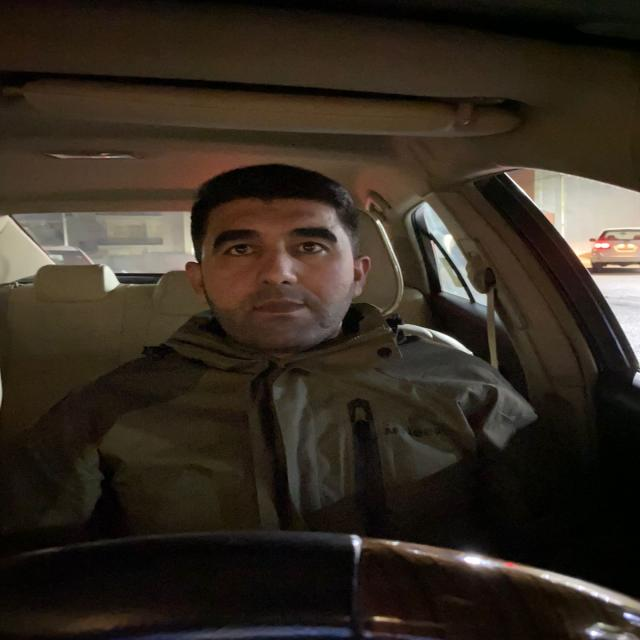person: (178, 165, 378, 356)
